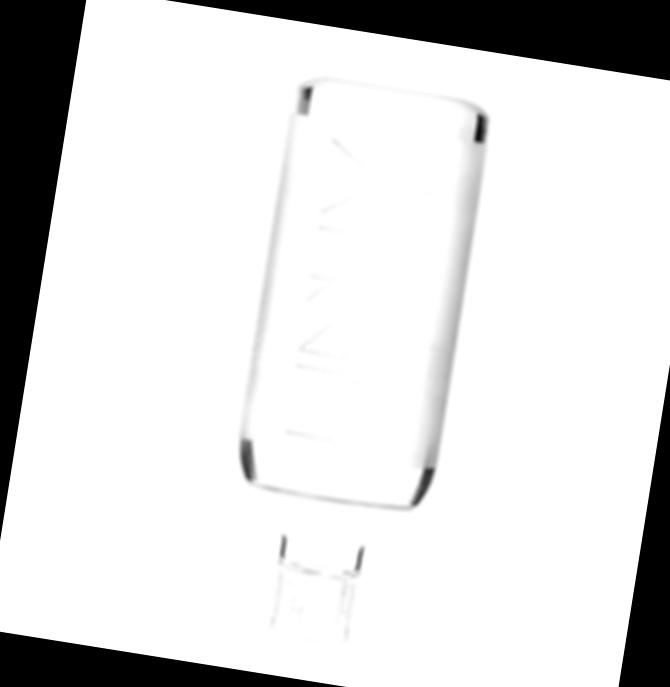cosmetic: (206, 76, 491, 658)
